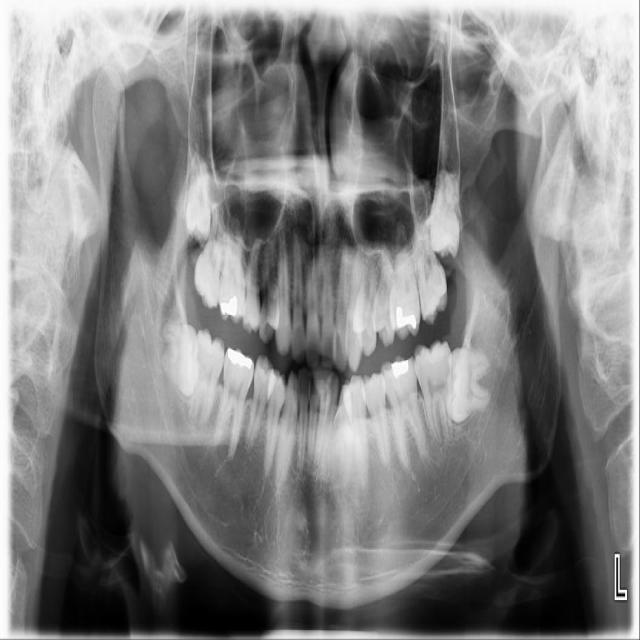3M ESPE Implant: (185, 157, 212, 249)
52: (378, 353, 423, 404), (217, 346, 259, 393), (388, 287, 422, 341), (219, 271, 245, 325)
73: (612, 576, 616, 584)
BioHorizons Implant: (409, 214, 450, 327)
BioLife Implant: (427, 168, 462, 260)
Biomet 3i Implant: (443, 346, 492, 421)
Blue Sky Bio Implant: (410, 339, 464, 447)
Caries: (191, 203, 228, 309)
Implant: (184, 325, 229, 430)
Keystone Dental Implant: (162, 321, 200, 396)
